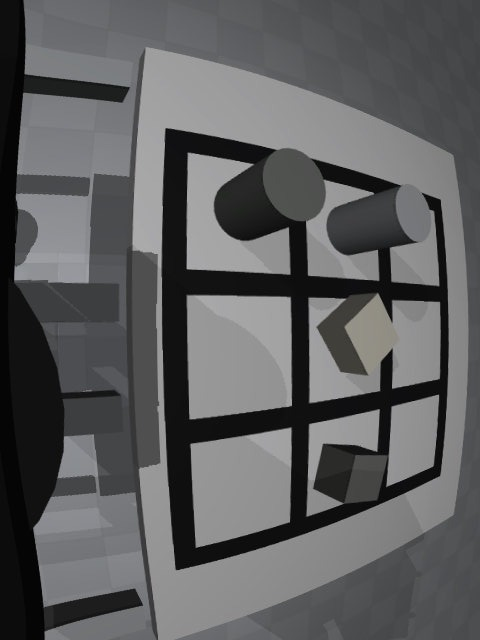can: (327, 184, 431, 256)
cube: (314, 444, 388, 504)
cylinder: (214, 148, 326, 241)
foam: (316, 293, 399, 375)
